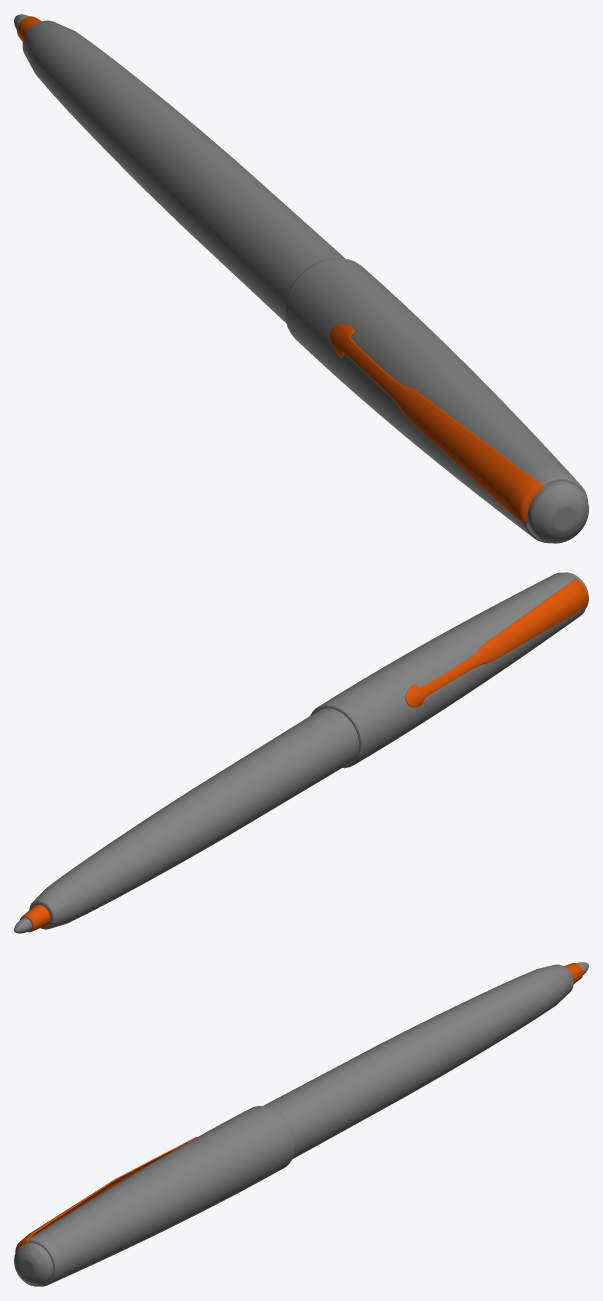
Rendered from Pen.FBX.
3 renders of one model, top to bottom at view 1: azimuth 30°, elevation 25°; view 2: azimuth 150°, elevation 25°; view 3: azimuth 330°, elevation 25°, orthographic. The views are drawn at different scales.
Parts seen in each view (by area): view 1: arch20_060, arch20_067, arch20_061; view 2: arch20_060, arch20_067, arch20_061; view 3: arch20_060, arch20_067, arch20_061.
Part boxes in pixels (box(x1,y1,x2,y2)): arch20_060: box(22, 20, 588, 543); arch20_067: box(14, 14, 588, 543); arch20_061: box(17, 16, 544, 523); arch20_060: box(29, 572, 588, 929); arch20_067: box(14, 572, 585, 933); arch20_061: box(20, 578, 587, 932); arch20_060: box(14, 964, 573, 1286); arch20_067: box(28, 962, 588, 1286); arch20_061: box(15, 963, 583, 1252).
Size of the model in its own units: 0.7478 by 0.3729 by 4.95.
